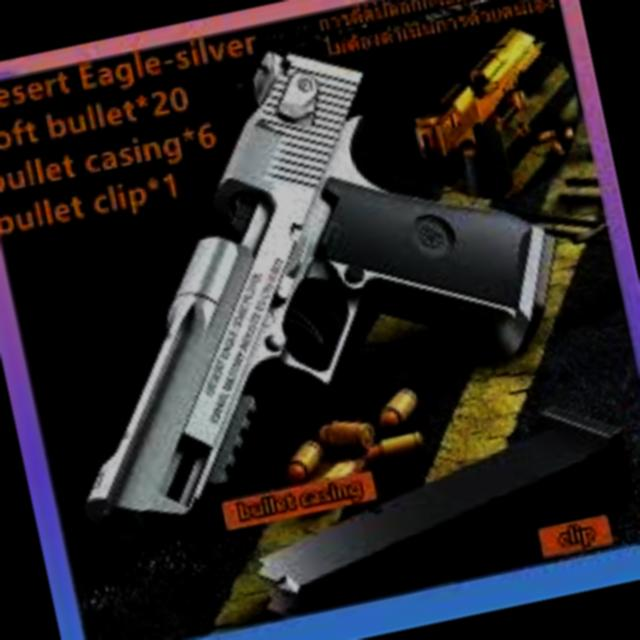semi automatic: (0, 0, 610, 569)
